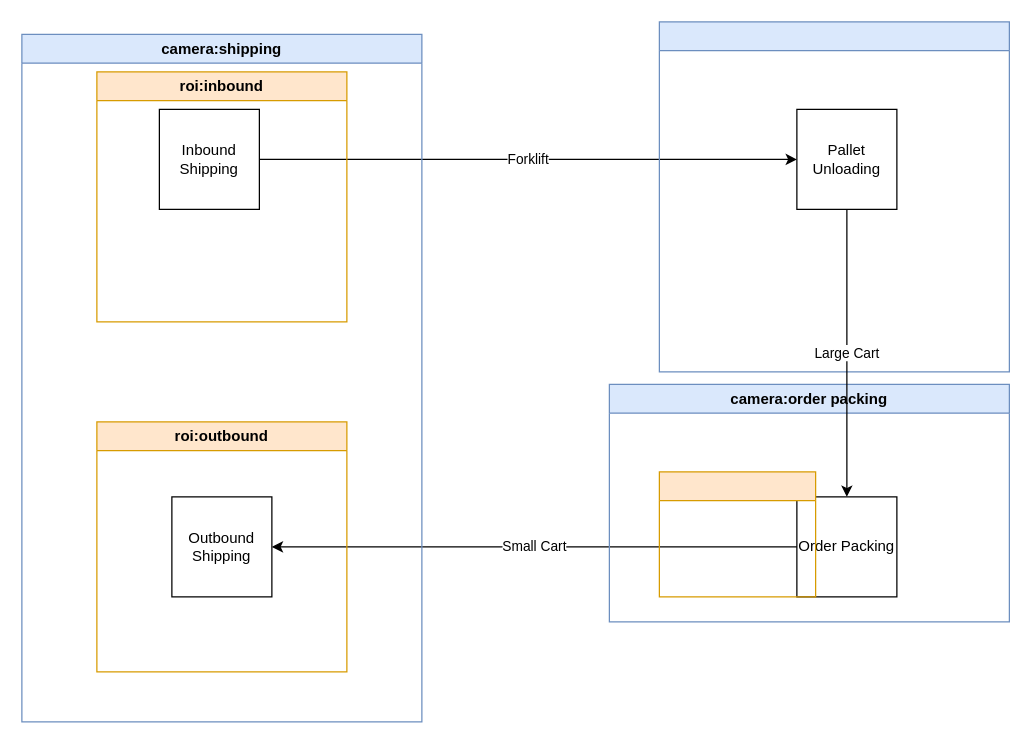
Some shapes in this 1031 by 744 pixel diagram are drawn without their labels. Here are the shapes that lost their labels. From the top down, the centre of each, then its label:
[833,196]: camera:pallet storage
[737,534]: roi:order outputs
